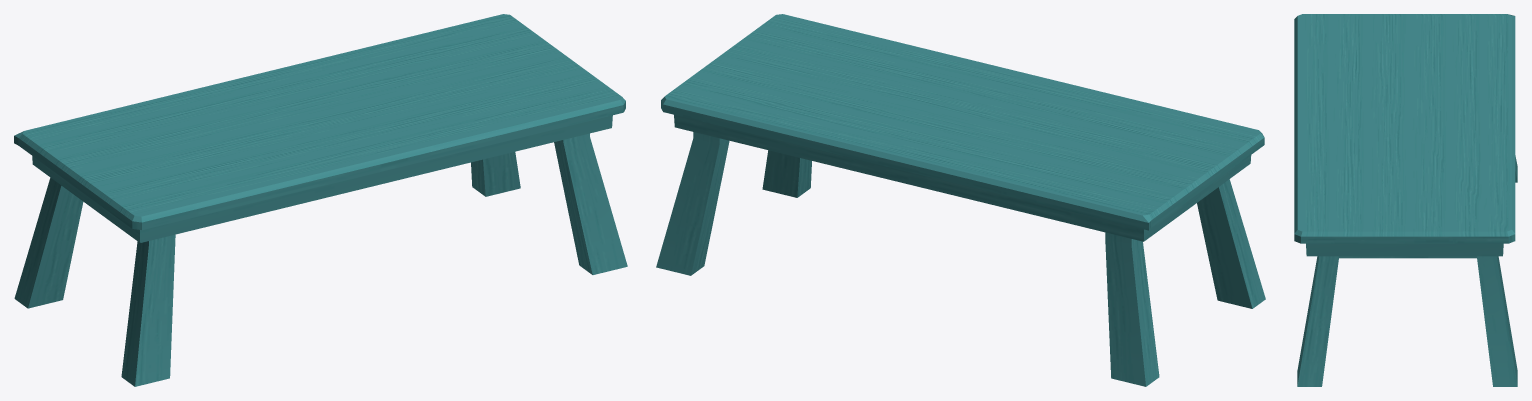
The model's file is Bench_E.FBX.
3 views of the same model, side by side, from view 1: azimuth 30°, elevation 25°; view 2: azimuth 150°, elevation 25°; view 3: azimuth 270°, elevation 25° (orthographic). The views are drawn at different scales.
Visible parts, largest first — view 1: Bench; view 2: Bench; view 3: Bench.
Boxes of the visible parts, x1,y1,x2,y2 form: Bench: [14, 14, 627, 386]; Bench: [656, 14, 1265, 386]; Bench: [1294, 14, 1517, 386].
Bounding box in the file's own units: 281 × 91.5 × 120.
